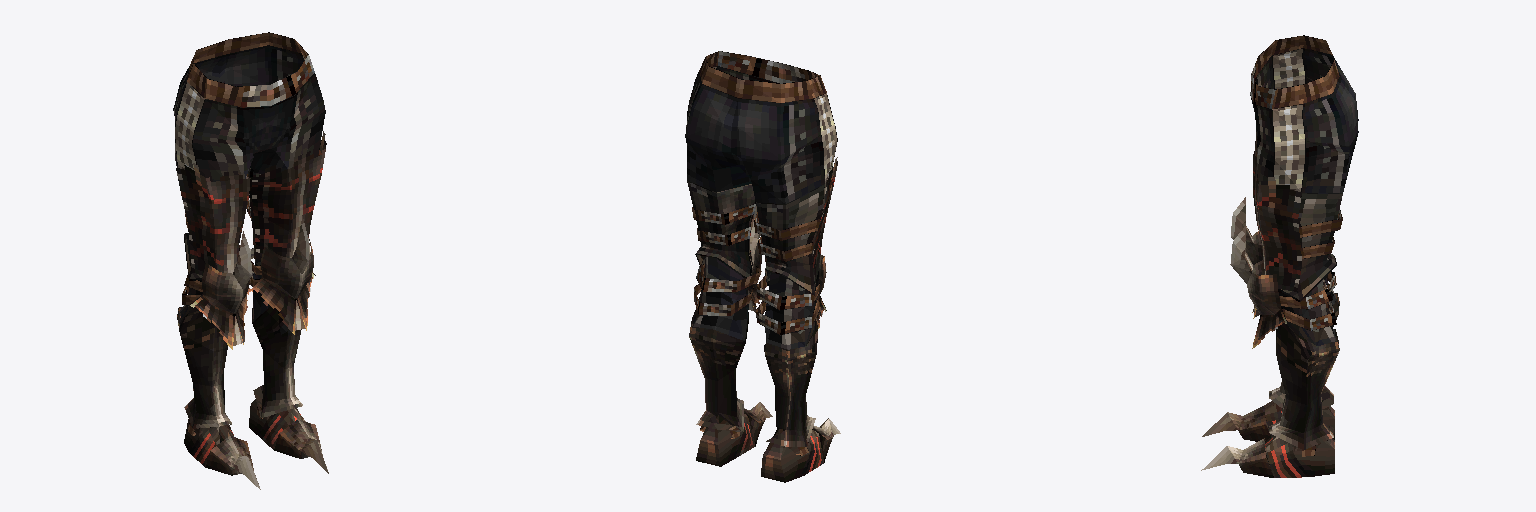
3 renders of one model, left to right at view 1: azimuth 30°, elevation 25°; view 2: azimuth 150°, elevation 25°; view 3: azimuth 270°, elevation 25°, orthographic.
Parts seen in each view (by area): view 1: mesh00; view 2: mesh00; view 3: mesh00.
Part boxes in pixels (x1,y1,x2,y2): mesh00: (173, 32, 328, 489); mesh00: (685, 51, 840, 482); mesh00: (1201, 35, 1358, 477).
Size of the model in its own units: 41.79 by 111 by 39.84.
1 materials, 1 textured.